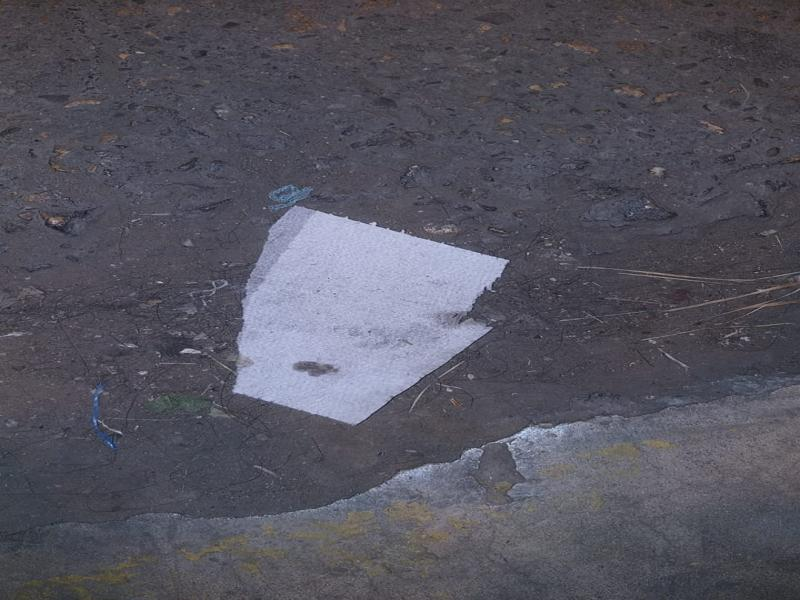papel: (232, 206, 509, 428)
